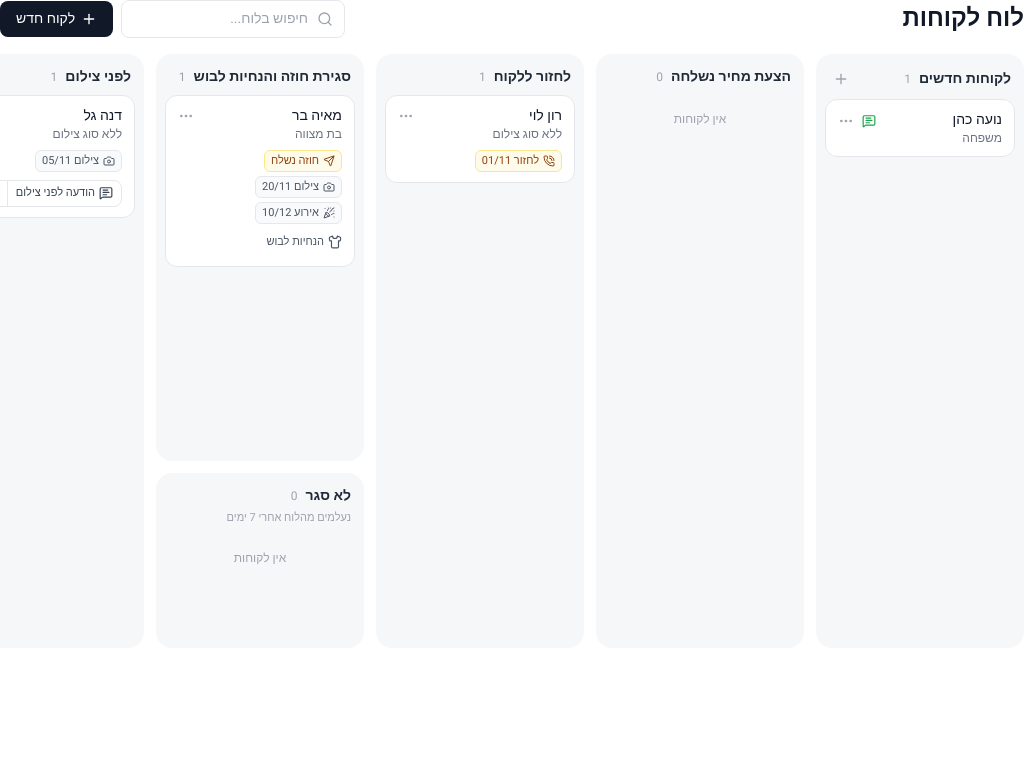
Test: ClientBoard › search filters tickets; new client opens the form
This screenshot has width=1024, height=768.
Type "רון" into the field labelled "חיפוש בלוח". click: (233, 19)
box: [121,0,345,38]
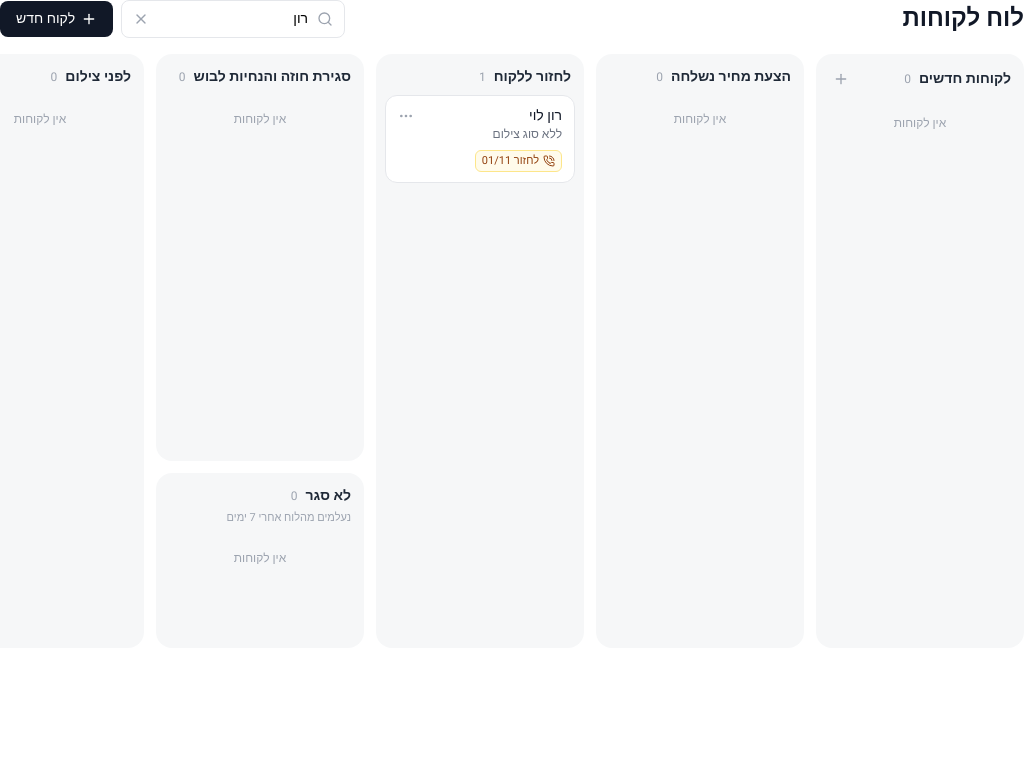
Check: the text "רון לוי" is shown, box [529,105,562,126]
Check: the button "נועה כהן" is gone
Click the button named "לקוח חדש". click: (841, 79)
box: [829,67,853,91]
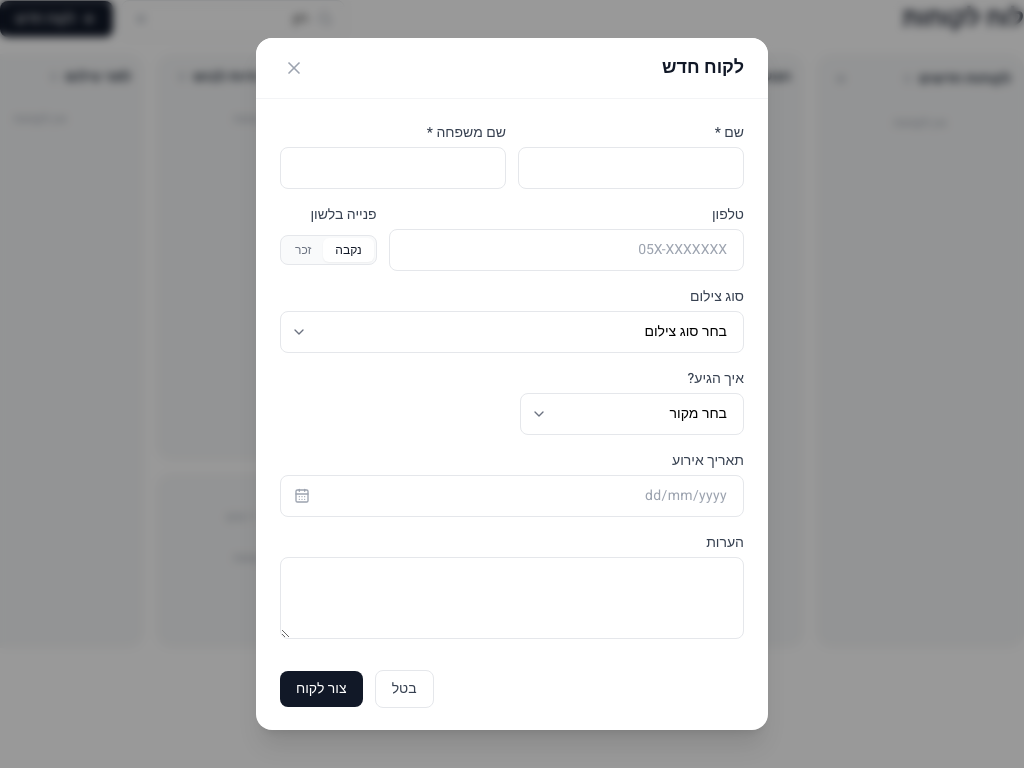
Check: the dialog is shown, box [256,38,768,730]
